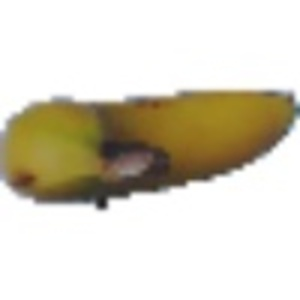banana: (3, 64, 295, 206)
